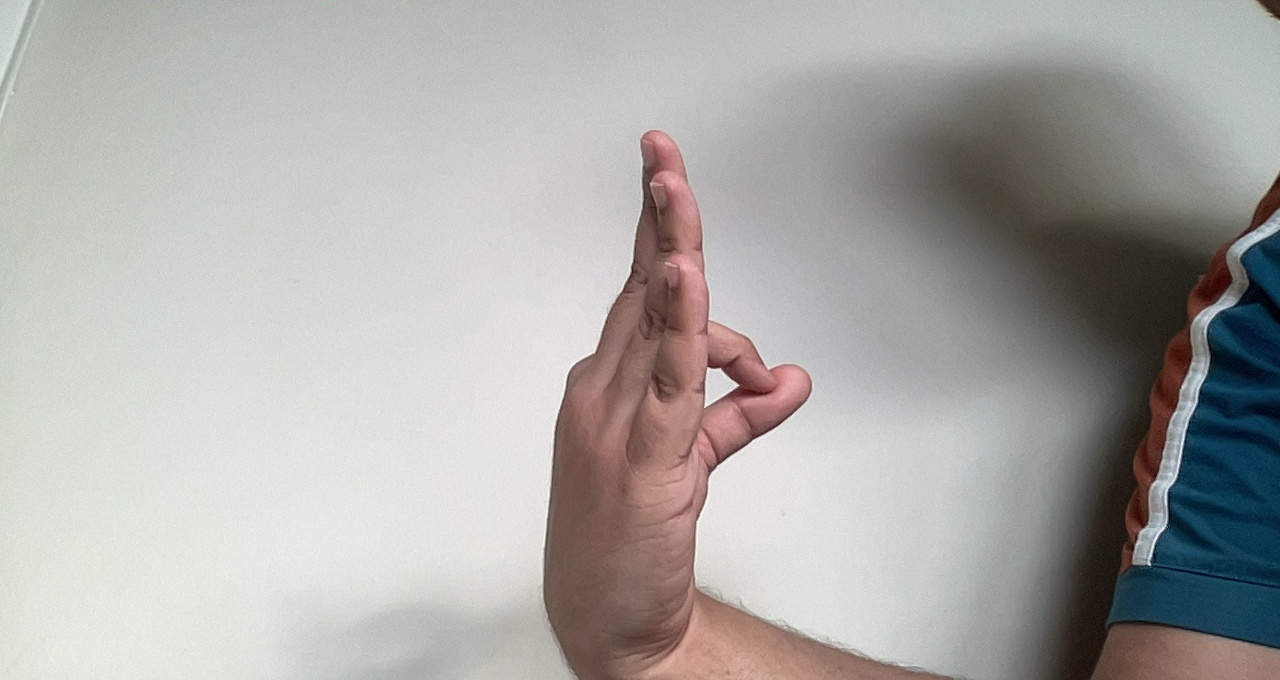ok: (547, 125, 825, 654)
